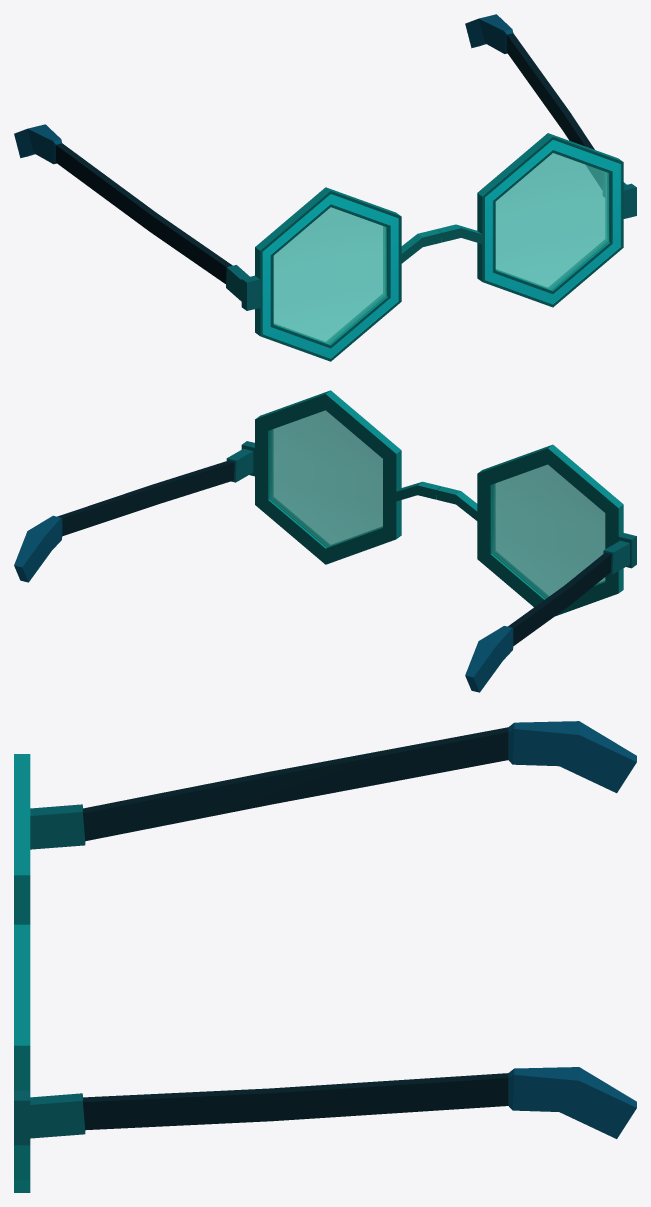
Rendered from MANA_Eyewear.glb.
The picture shows the model from 3 angles, top to bottom: view 1: azimuth 30°, elevation 25°; view 2: azimuth 150°, elevation 25°; view 3: azimuth 270°, elevation 25°; orthographic projection. The views are drawn at different scales.
Parts seen in each view (by area): view 1: MANA_Eyewear; view 2: MANA_Eyewear; view 3: MANA_Eyewear.
Part boxes in pixels (box(x1,y1,x2,y2)): MANA_Eyewear: box(14, 14, 636, 361); MANA_Eyewear: box(14, 390, 636, 692); MANA_Eyewear: box(14, 721, 636, 1192).
Size of what is drawn, in the model's own units: 0.8068 by 0.2806 by 0.5904.
2 materials, 2 textured.
